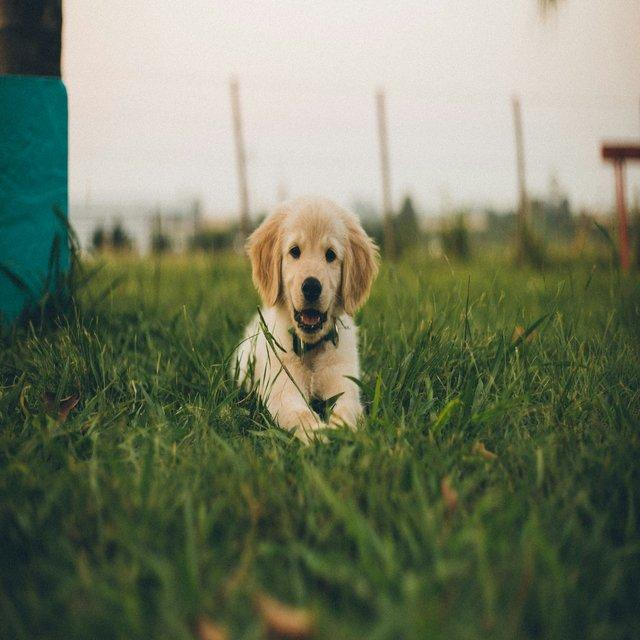retriever: (228, 194, 381, 446)
